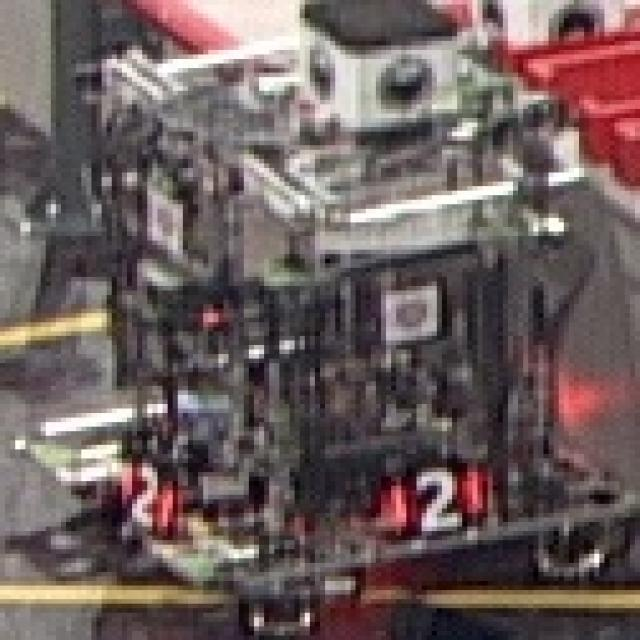R2: (386, 463, 488, 531), (117, 454, 173, 531)
